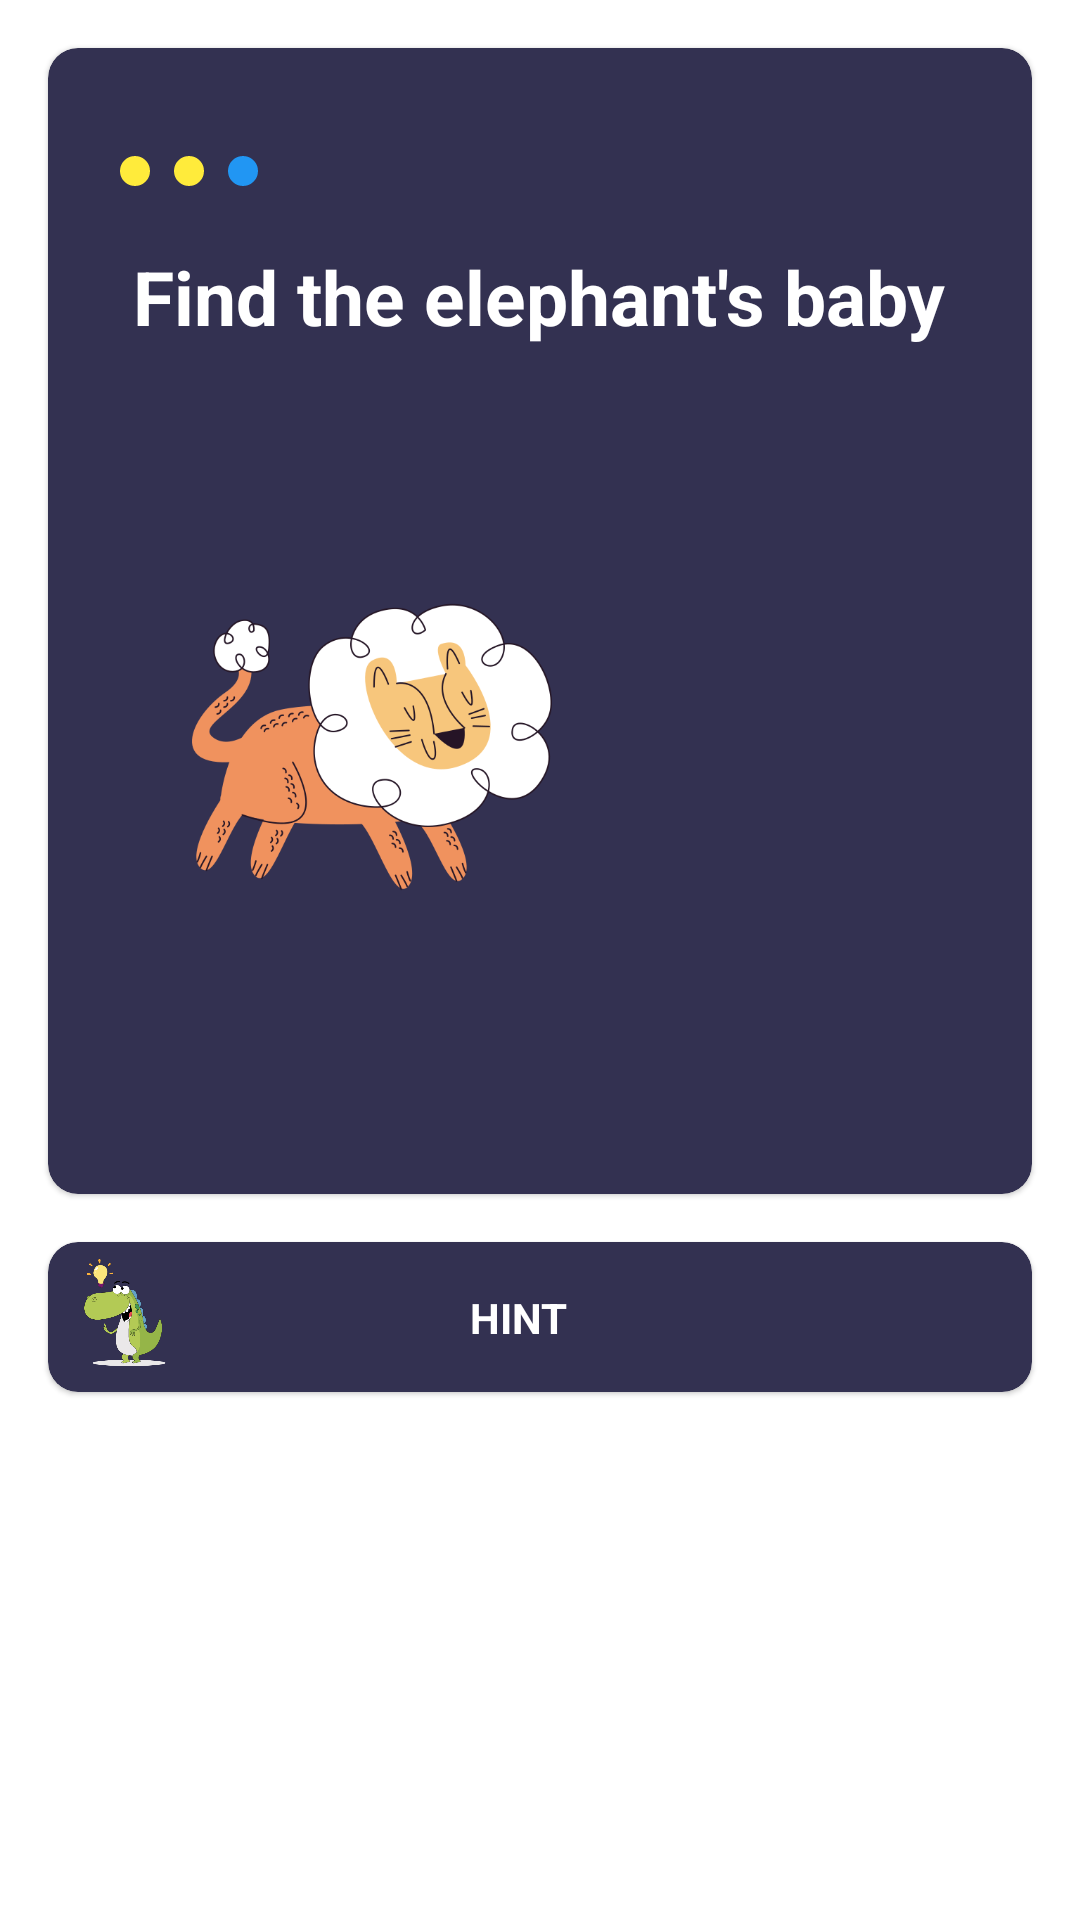

Locate icon controls on the screen. Image size 1080×1920, boxes as (x1, y1, x2, y2).
idea: (48, 1242, 198, 1392)
lion: (192, 604, 552, 890)
